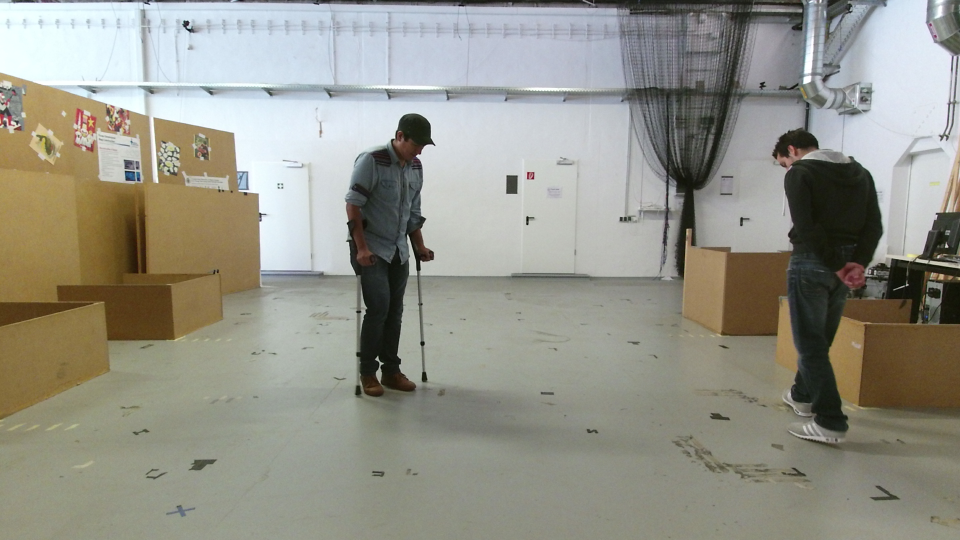crutches: (334, 108, 452, 400)
